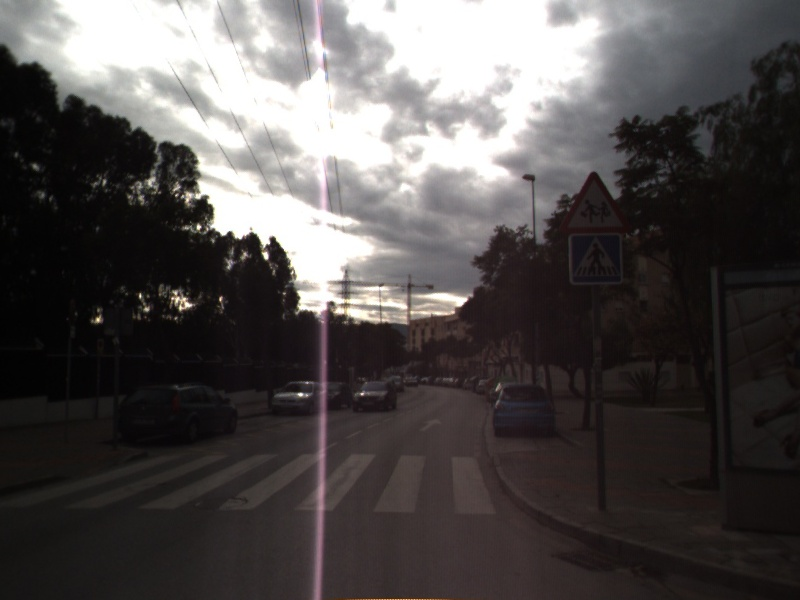STRAIGHT: (416, 416, 444, 433)
